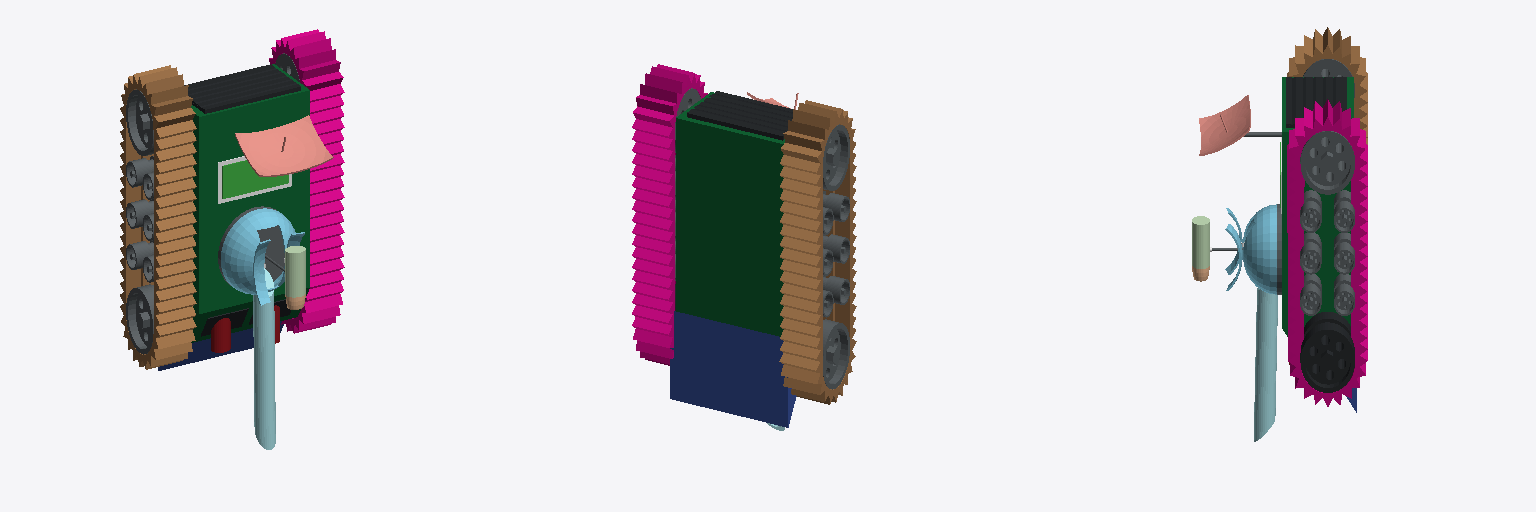
File: tinker.obj
The picture shows the model from 3 angles: view 1: azimuth 30°, elevation 25°; view 2: azimuth 150°, elevation 25°; view 3: azimuth 270°, elevation 25°; orthographic projection.
Visible parts, largest first — view 1: obj_0; view 2: obj_0; view 3: obj_0.
Part boxes in pixels (x1,y1,x2,y2): obj_0: (120, 29, 344, 449); obj_0: (632, 64, 856, 430); obj_0: (1192, 27, 1367, 441).
Bounding box in the file's own units: 50.04 × 95.48 × 41.27.